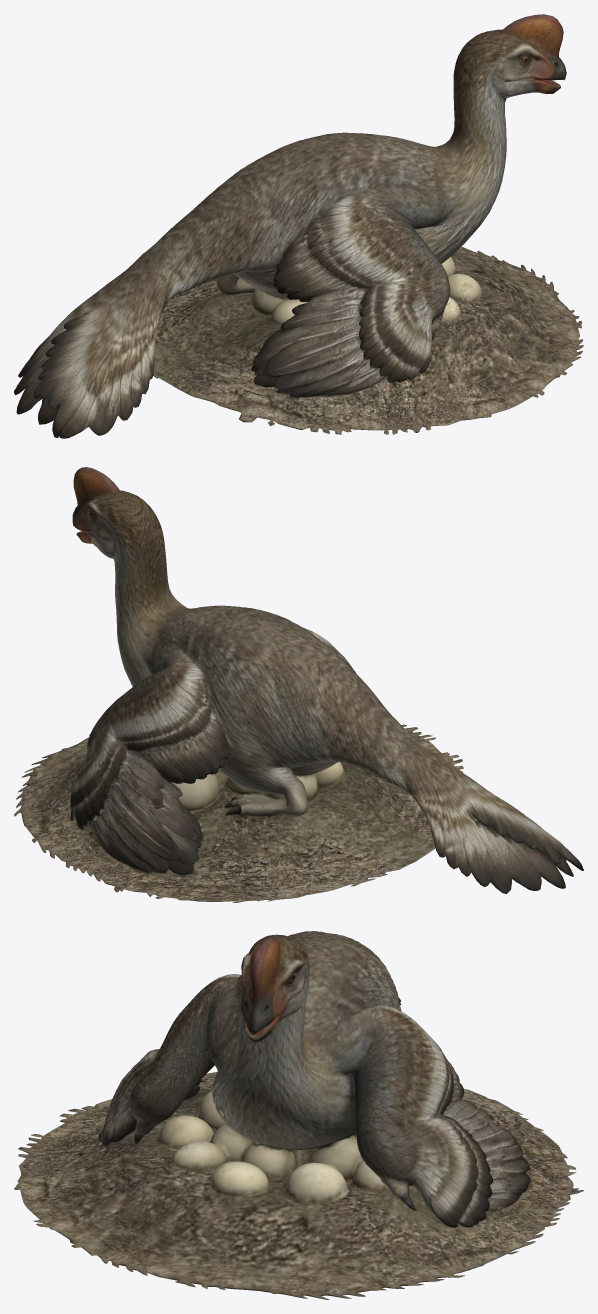
File: oviraptor_on_nest.glb
The picture shows the model from 3 angles, top to bottom: view 1: azimuth 30°, elevation 25°; view 2: azimuth 150°, elevation 25°; view 3: azimuth 270°, elevation 25°; orthographic projection. The views are drawn at different scales.
Parts seen in each view (by area): view 1: tripo_node_7eea7695-ee08-481d-930b-2c64b141a607; view 2: tripo_node_7eea7695-ee08-481d-930b-2c64b141a607; view 3: tripo_node_7eea7695-ee08-481d-930b-2c64b141a607.
Boxes of the visible parts, x1,y1,x2,y2 form: tripo_node_7eea7695-ee08-481d-930b-2c64b141a607: (14, 14, 583, 438); tripo_node_7eea7695-ee08-481d-930b-2c64b141a607: (14, 467, 583, 902); tripo_node_7eea7695-ee08-481d-930b-2c64b141a607: (14, 931, 583, 1299).
Size of the model in its own units: 0.9797 by 0.5177 by 0.7767.
Materials: 1 (1 with a texture image).
